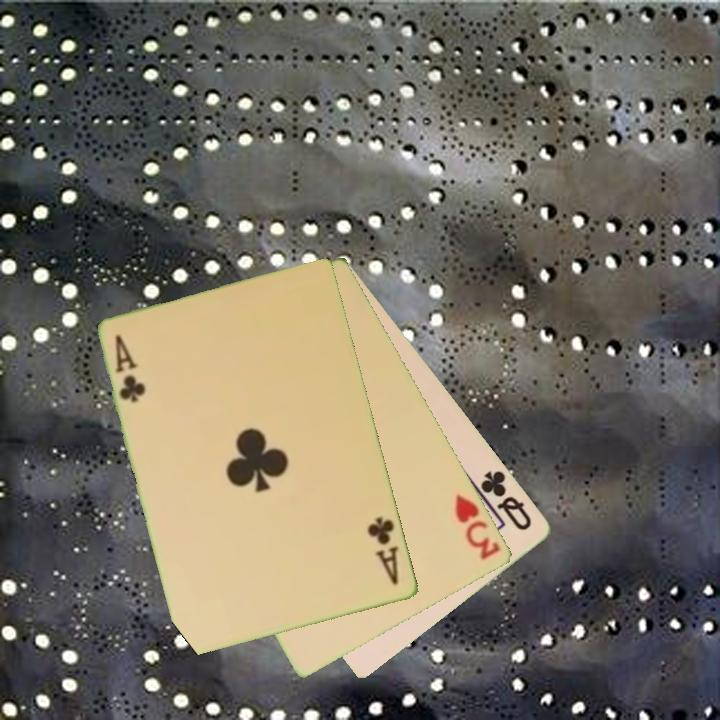3h: (451, 490, 504, 563)
Ac: (364, 513, 402, 589), (112, 331, 149, 406)
Qc: (477, 466, 535, 534)
